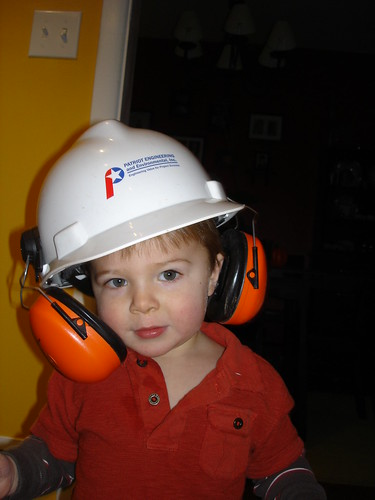person hardhat: (17, 119, 307, 497)
